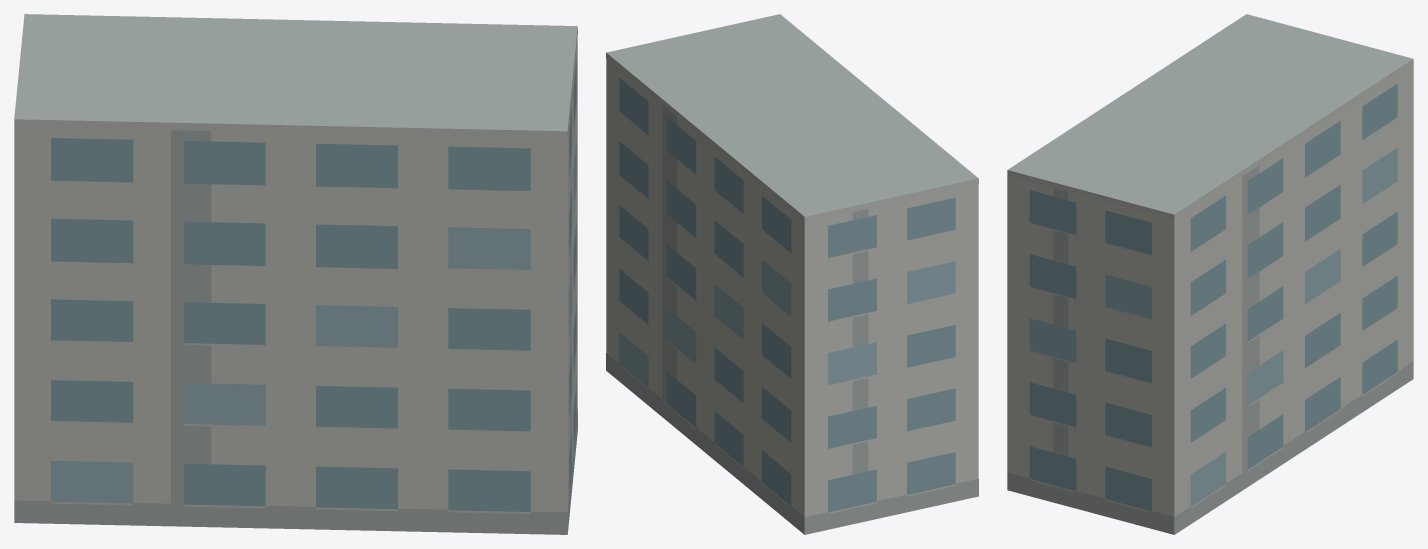
File: survey-upis-33006583.glb
3 renders of one model, left to right at view 1: azimuth 30°, elevation 25°; view 2: azimuth 150°, elevation 25°; view 3: azimuth 270°, elevation 25°, orthographic. The views are drawn at different scales.
Parts seen in each view (by area): view 1: survey-upis-33006583.tmp; view 2: survey-upis-33006583.tmp; view 3: survey-upis-33006583.tmp.
Part boxes in pixels (x1,y1,x2,y2): survey-upis-33006583.tmp: (14, 14, 577, 534); survey-upis-33006583.tmp: (606, 14, 978, 534); survey-upis-33006583.tmp: (1007, 14, 1413, 534).
Bounding box in the file's own units: 17.74 × 13.2 × 15.18.
